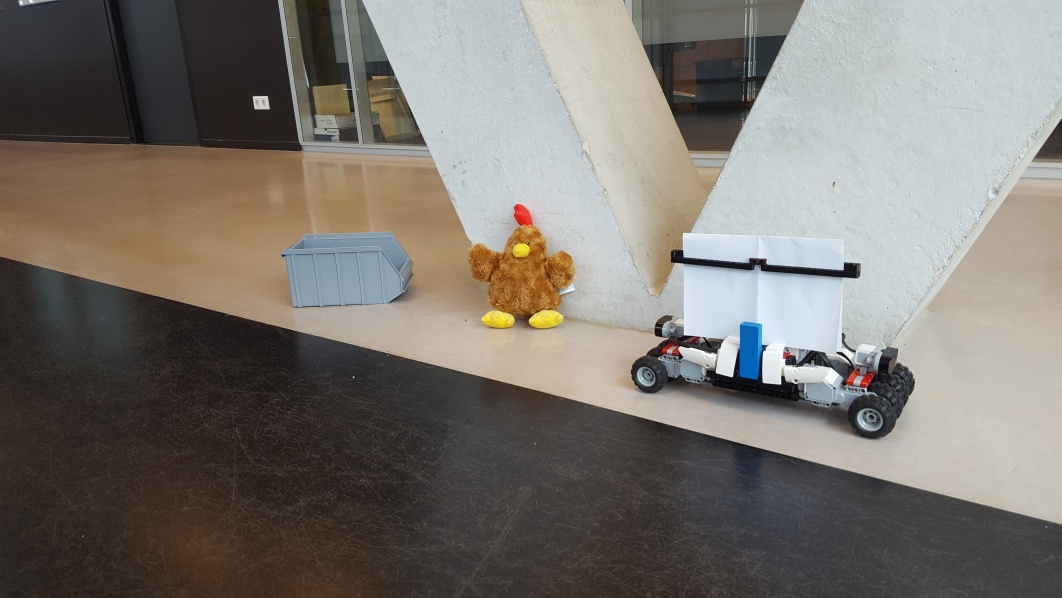beam: (736, 319, 760, 384)
chicken: (470, 204, 574, 332)
tray: (279, 232, 416, 309)
